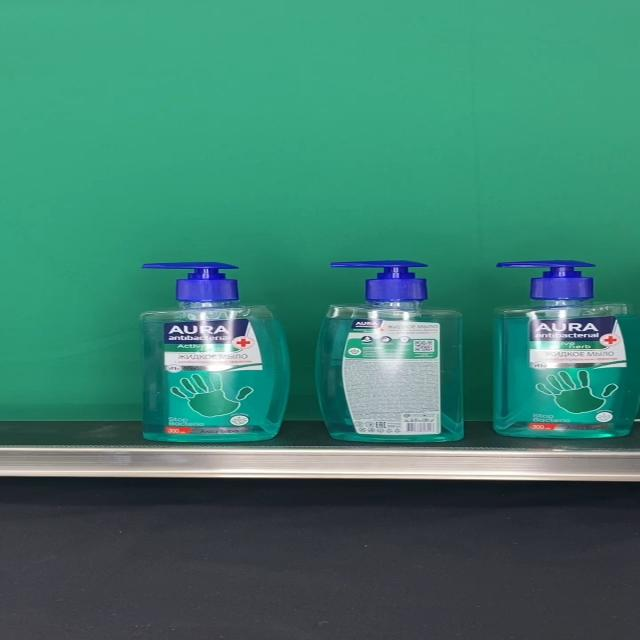Bottle: (314, 260, 465, 442), (139, 261, 291, 441), (494, 259, 640, 439)
Cap: (329, 260, 427, 302), (494, 260, 595, 300), (141, 261, 239, 301)
